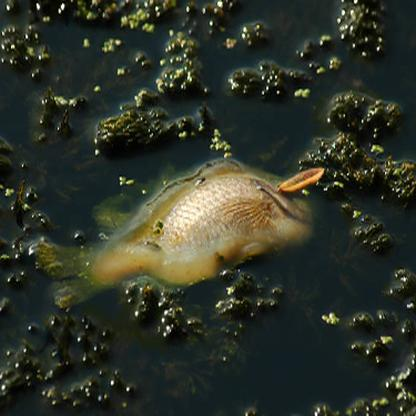deceased fish: (38, 157, 332, 306)
